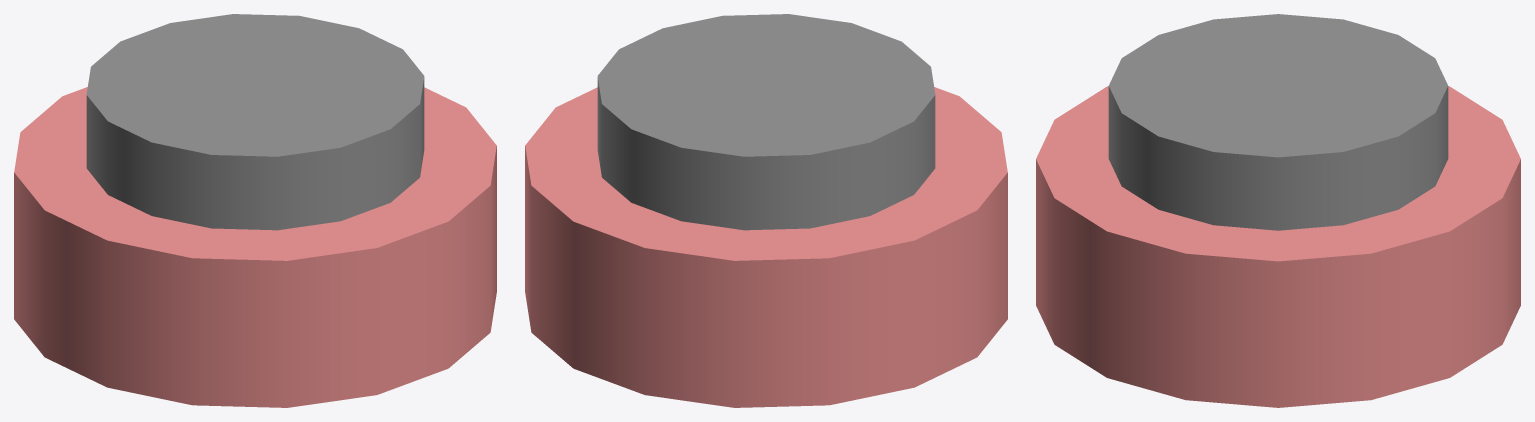
Rendered from SM_Button_1x1x1s.gltf.
3 renders of one model, left to right at view 1: azimuth 30°, elevation 25°; view 2: azimuth 150°, elevation 25°; view 3: azimuth 270°, elevation 25°, orthographic.
Visible parts, largest first — view 1: SM_Button_1x1x1s; view 2: SM_Button_1x1x1s; view 3: SM_Button_1x1x1s.
Boxes of the visible parts, left/top/right/bottom form: SM_Button_1x1x1s: left=14, top=14, right=496, bottom=407; SM_Button_1x1x1s: left=525, top=14, right=1007, bottom=407; SM_Button_1x1x1s: left=1036, top=14, right=1520, bottom=407.
Bounding box in the file's own units: 0.3 × 0.15 × 0.3.
